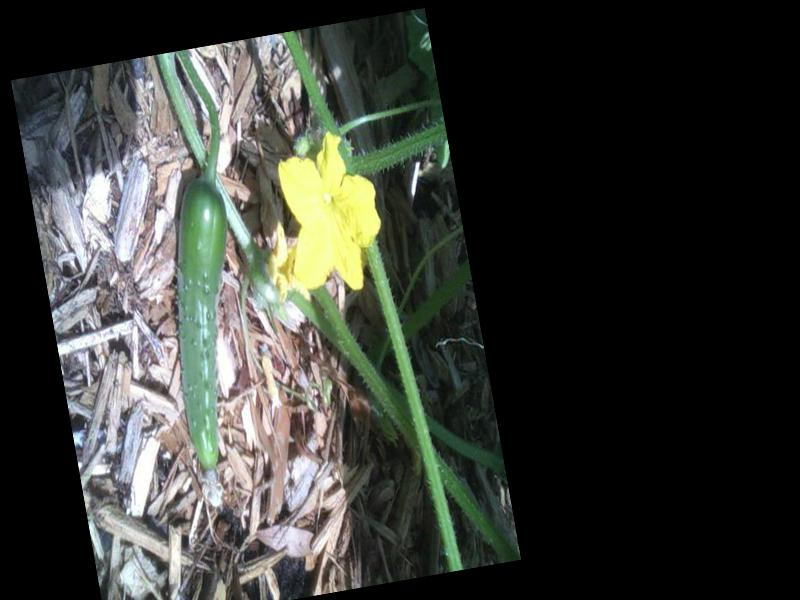Cucumber: (143, 170, 274, 503)
